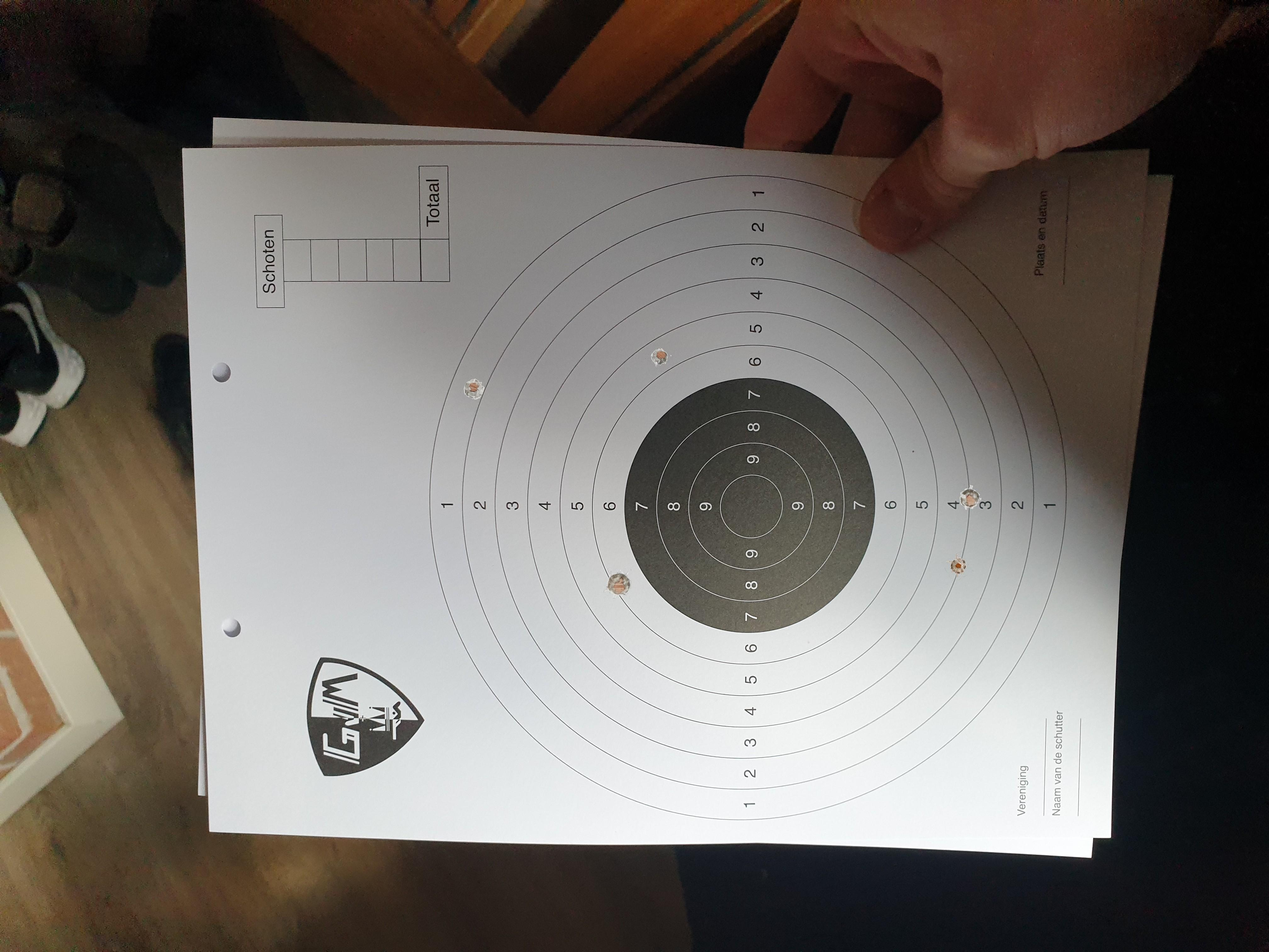hole: (608, 570, 631, 595), (959, 485, 982, 510), (464, 378, 485, 400), (948, 554, 967, 578), (651, 348, 668, 367)
